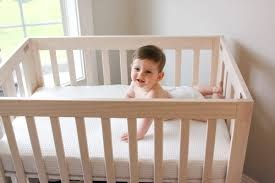baby: (126, 45, 170, 97)
crib: (31, 43, 225, 100)
